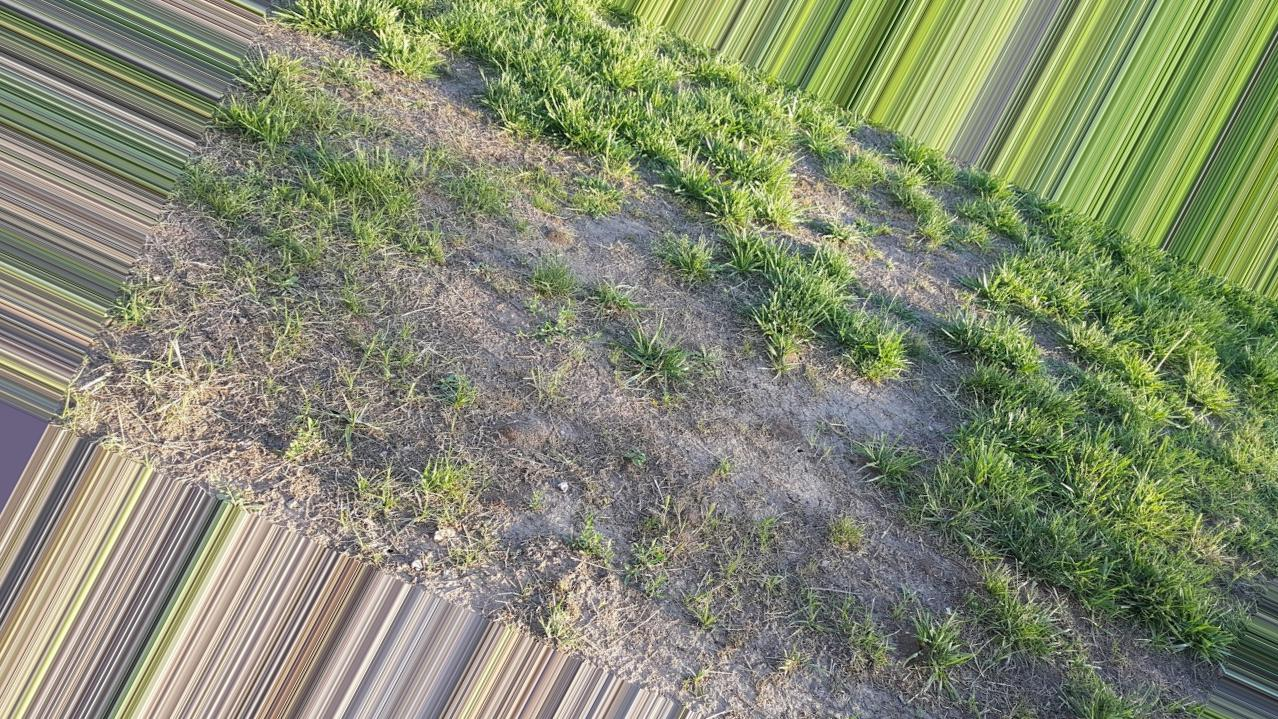patch: (291, 239, 864, 571), (562, 531, 876, 715), (323, 69, 498, 156)
